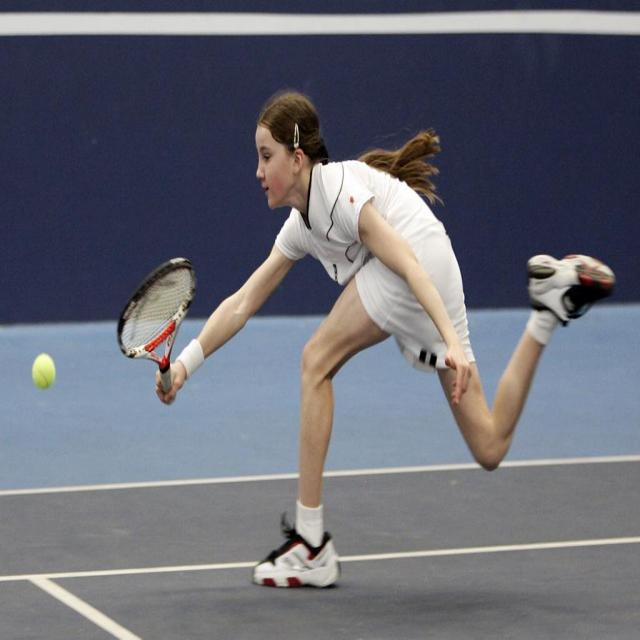nomask: (255, 124, 293, 210)
